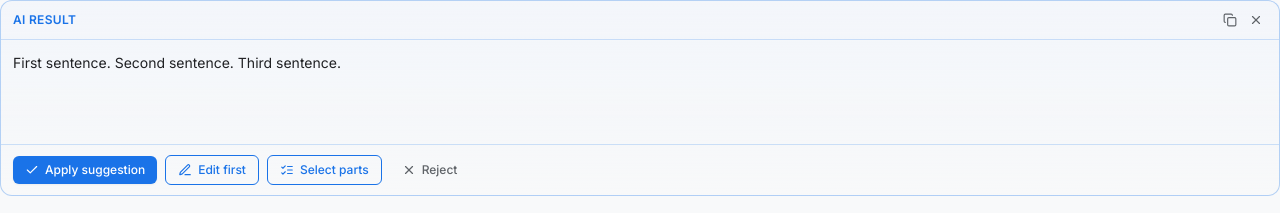
Test: AIResultCard › partial acceptance — navigation › enters partial mode when Select parts is clicked
Click the button "Select parts": x=324, y=170 [267,155,382,185]
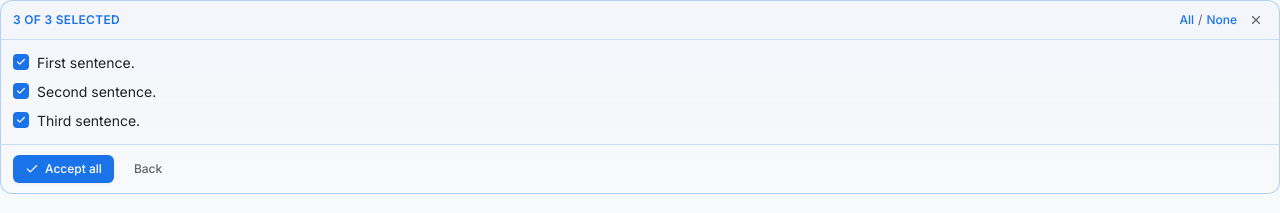
Check: the button "Accept all" is shown, box [13,155,114,183]
Check: the button "Back" is shown, box [122,155,174,183]
